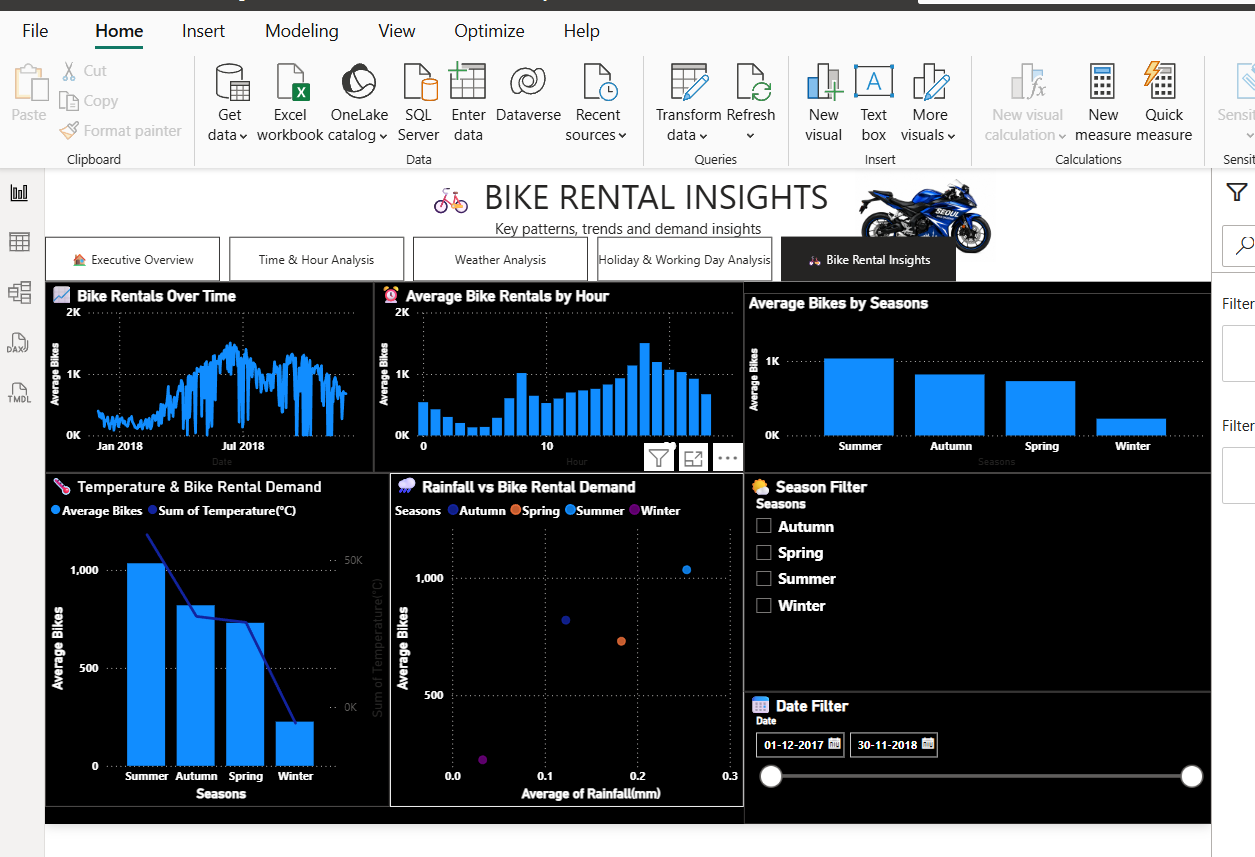

The page's visual inventory and layout, read from the dashboard file:
{"tool":"powerbi","page":{"name":"🚲 Bike Rental Insights","canvas":[1280,720],"ordinal":4},"visuals":[{"type":"textbox","box":[0,0,1280.3,124.9],"z":0},{"type":"image","box":[728.6,0,476.2,102.9],"z":1000},{"type":"lineChart","title":"📈 Bike Rentals Over Time","fields":{"Y":["SeoulBikeData.Average Bikes"],"Category":["SeoulBikeData.Date"]},"box":[0,124.9,360.9,209.9],"z":2000},{"type":"lineClusteredColumnComboChart","title":"⏰ Average Bike Rentals by Hour","fields":{"Category":["SeoulBikeData.Hour"],"Y":["SeoulBikeData.Average Bikes"]},"box":[360.9,124.9,406.2,209.9],"z":3000},{"type":"lineClusteredColumnComboChart","title":"Average Bikes by Seasons","fields":{"Category":["SeoulBikeData.Seasons"],"Y":["SeoulBikeData.Average Bikes"]},"box":[767.1,137.2,513.2,197.6],"z":4000},{"type":"lineClusteredColumnComboChart","title":"🌡️ Temperature & Bike Rental Demand","fields":{"Category":["SeoulBikeData.Seasons"],"Y":["SeoulBikeData.Average Bikes"],"Y2":["Sum(SeoulBikeData.Temperature(°C))"]},"box":[0,334.8,378.7,366.4],"z":5000},{"type":"scatterChart","title":"🌧️ Rainfall vs Bike Rental Demand","fields":{"X":["Avg(SeoulBikeData.Rainfall(mm))"],"Y":["SeoulBikeData.Average Bikes"],"Series":["SeoulBikeData.Seasons"]},"box":[378.7,334.8,388.3,366.4],"z":6000},{"type":"slicer","title":"🌤️ Season Filter","fields":{"Values":["SeoulBikeData.Seasons"]},"box":[767.1,334.8,513.2,240.1],"z":7000},{"type":"slicer","title":"📅 Date Filter","fields":{"Values":["SeoulBikeData.Date"]},"box":[767.1,575,513.2,145.5],"z":8000},{"type":"pageNavigator","box":[0,75.5,1000.3,49.4],"z":8001}]}

Visuals, with their boxes on the page's 1280x720 design canvas (x1, y1, x2, y2). These are canvas units, not pixel positions in the 1255x857 screenshot, which may show the page scaled, cropped or inside an application window:
textbox: 0,0,1280,125
image: 729,0,1205,103
"📈 Bike Rentals Over Time" lineChart: 0,125,361,335
"⏰ Average Bike Rentals by Hour" lineClusteredColumnComboChart: 361,125,767,335
"Average Bikes by Seasons" lineClusteredColumnComboChart: 767,137,1280,335
"🌡️ Temperature & Bike Rental Demand" lineClusteredColumnComboChart: 0,335,379,701
"🌧️ Rainfall vs Bike Rental Demand" scatterChart: 379,335,767,701
"🌤️ Season Filter" slicer: 767,335,1280,575
"📅 Date Filter" slicer: 767,575,1280,720
pageNavigator: 0,76,1000,125
